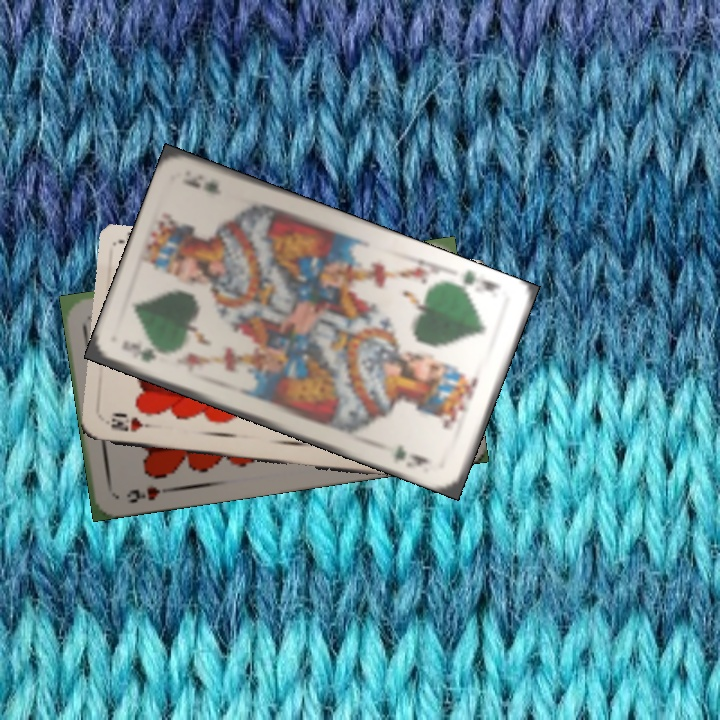GK: (449, 267, 504, 296), (126, 338, 158, 365)
H10: (107, 416, 163, 435)
H9: (122, 482, 173, 506)
